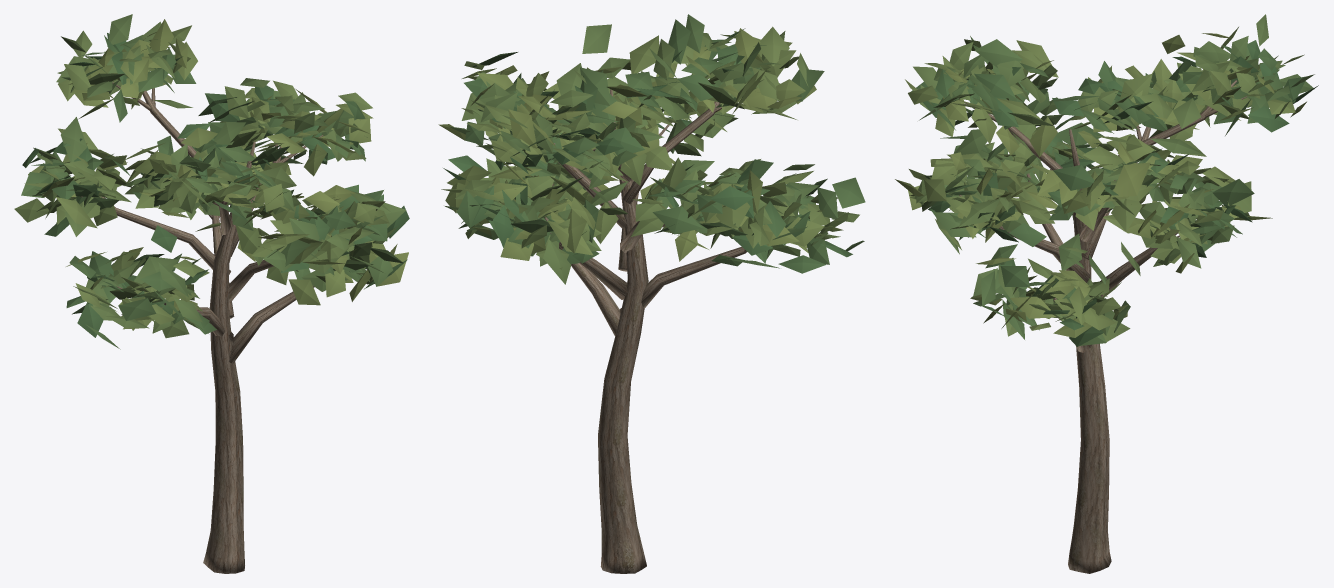
The model's file is alder-camp-standard-r7.glb.
The picture shows the model from 3 angles, left to right: view 1: azimuth 30°, elevation 25°; view 2: azimuth 150°, elevation 25°; view 3: azimuth 270°, elevation 25°; orthographic projection. The views are drawn at different scales.
Visible parts, largest first — view 1: r7_alder_leaves, r7_alder_bark; view 2: r7_alder_leaves, r7_alder_bark; view 3: r7_alder_leaves, r7_alder_bark.
Part boxes in pixels (left/top/right/bottom): r7_alder_leaves: left=14, top=14, right=409, bottom=349; r7_alder_bark: left=80, top=82, right=323, bottom=573; r7_alder_leaves: left=438, top=14, right=865, bottom=284; r7_alder_bark: left=544, top=89, right=746, bottom=573; r7_alder_leaves: left=895, top=14, right=1318, bottom=346; r7_alder_bark: left=959, top=80, right=1247, bottom=573.
Bounding box in the file's own units: 6.49 × 8.66 × 6.54.
2 materials, 1 textured.
